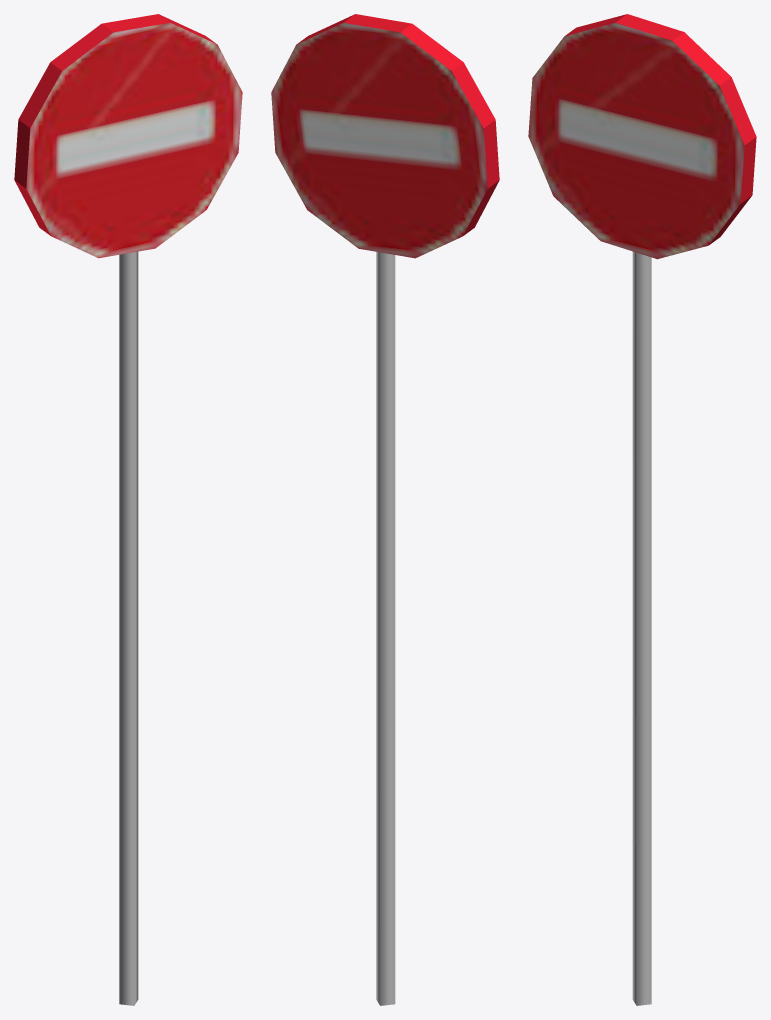
The model's file is Stop sign.fbx.
3 views of the same model, side by side, from view 1: azimuth 30°, elevation 25°; view 2: azimuth 150°, elevation 25°; view 3: azimuth 330°, elevation 25° (orthographic).
Visible parts, largest first — view 1: Stop sign; view 2: Stop sign; view 3: Stop sign.
Boxes of the visible parts, x1=… form: Stop sign: x1=14, y1=14, x2=242, y2=1005; Stop sign: x1=271, y1=14, x2=499, y2=1005; Stop sign: x1=528, y1=14, x2=756, y2=1005.
Size of the model in its own units: 7.38 by 31.89 by 0.7061.
